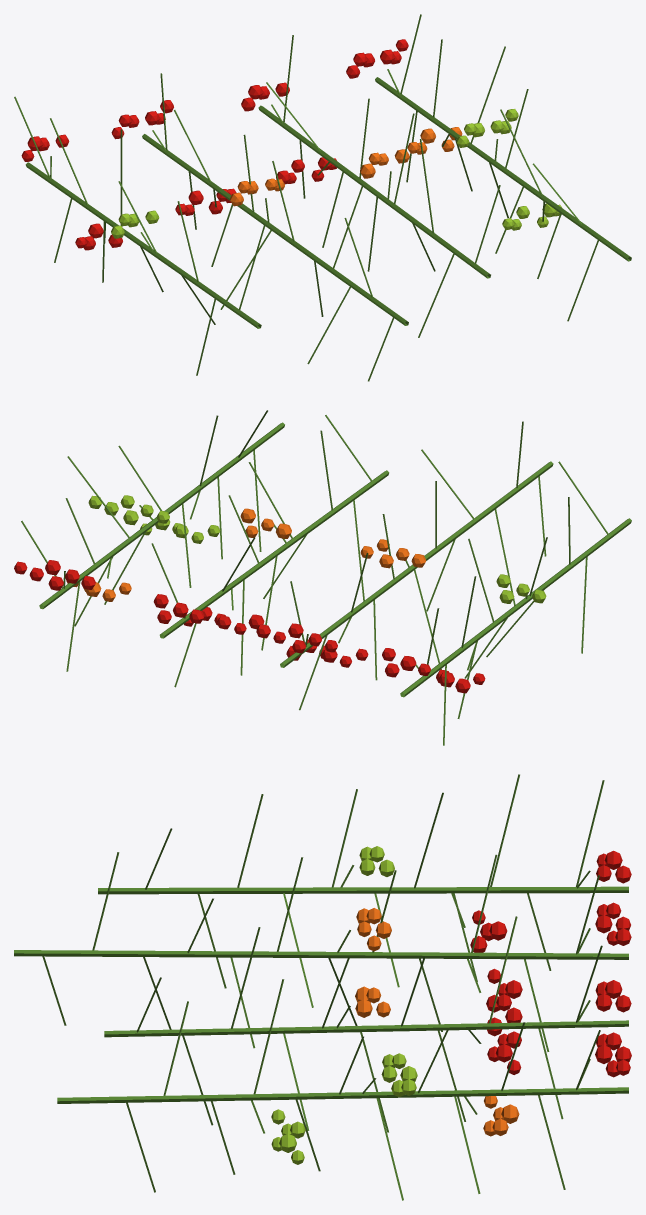
Rendered from r19c3_stems.obj.
3 views of the same model, one above another, from view 1: azimuth 30°, elevation 25°; view 2: azimuth 150°, elevation 25°; view 3: azimuth 270°, elevation 25° (orthographic). The views are drawn at different scales.
Parts seen in each view (by area): view 1: r19c3_stems; view 2: r19c3_stems; view 3: r19c3_stems.
Boxes of the visible parts, x1,y1,x2,y2 form: r19c3_stems: (14,14,631,381); r19c3_stems: (14,410,631,745); r19c3_stems: (14,774,631,1200).
Bounding box in the file's own units: 2.09 × 0.8653 × 2.22.
